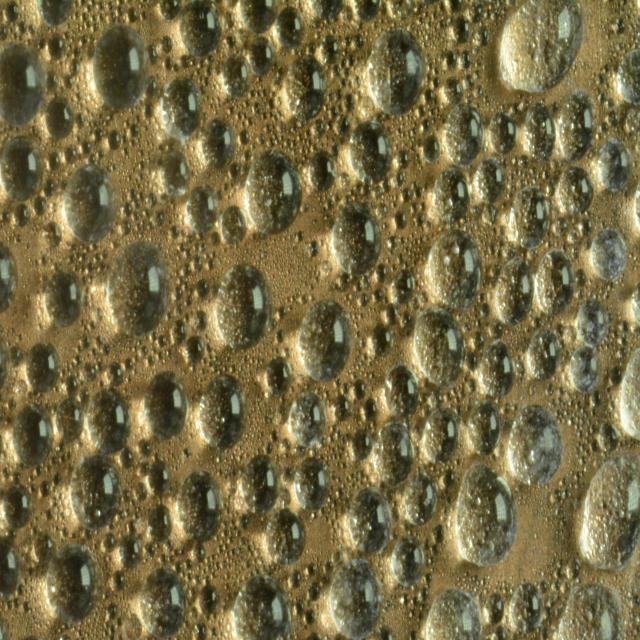dr: (498, 0, 586, 96), (579, 453, 640, 572), (457, 461, 518, 567), (107, 240, 172, 338), (367, 24, 428, 116), (215, 262, 274, 350), (244, 146, 301, 236), (92, 25, 150, 111), (508, 402, 563, 488), (62, 162, 117, 245), (297, 301, 351, 384), (425, 230, 482, 308), (330, 556, 381, 640), (46, 544, 100, 622), (550, 581, 621, 640), (414, 306, 464, 388), (232, 573, 293, 640), (69, 455, 122, 529), (0, 41, 46, 126), (137, 565, 188, 640), (198, 373, 246, 451), (175, 469, 224, 542), (332, 202, 380, 272), (84, 387, 131, 455), (143, 371, 188, 441), (425, 586, 483, 640), (348, 118, 394, 186), (349, 486, 392, 555), (494, 254, 535, 326), (161, 75, 204, 142), (284, 54, 326, 121), (2, 136, 44, 202), (12, 404, 54, 470), (534, 248, 574, 317), (374, 421, 414, 488), (445, 102, 484, 168), (560, 90, 594, 165), (509, 186, 550, 247), (179, 0, 222, 58), (265, 508, 307, 567), (432, 166, 472, 222), (423, 404, 459, 466), (242, 454, 279, 514), (589, 228, 628, 282), (289, 392, 326, 448), (555, 165, 594, 218), (45, 270, 83, 324), (523, 100, 556, 162), (480, 340, 514, 399), (509, 580, 546, 634), (295, 456, 332, 510), (597, 138, 632, 195), (468, 400, 502, 458), (403, 470, 438, 525), (384, 366, 421, 418), (26, 341, 60, 394), (392, 536, 426, 589), (201, 118, 235, 170), (527, 329, 560, 380), (0, 537, 25, 601), (185, 185, 217, 235), (616, 46, 640, 107), (236, 0, 279, 34), (222, 54, 252, 99), (161, 150, 190, 196), (489, 111, 518, 156), (4, 482, 31, 529), (571, 345, 598, 392), (44, 97, 74, 139), (276, 4, 303, 50), (476, 156, 503, 202), (221, 206, 249, 247), (56, 396, 82, 440), (388, 268, 416, 307), (309, 152, 336, 192), (265, 357, 292, 396), (249, 35, 273, 77), (146, 505, 172, 541), (117, 533, 142, 568), (33, 530, 55, 564), (370, 323, 392, 356), (148, 461, 170, 494), (352, 428, 373, 461), (484, 594, 505, 626), (199, 583, 219, 616), (421, 134, 441, 164), (451, 15, 470, 44), (185, 335, 202, 366), (157, 0, 180, 22), (333, 394, 350, 421), (362, 398, 378, 425), (170, 320, 187, 345)
